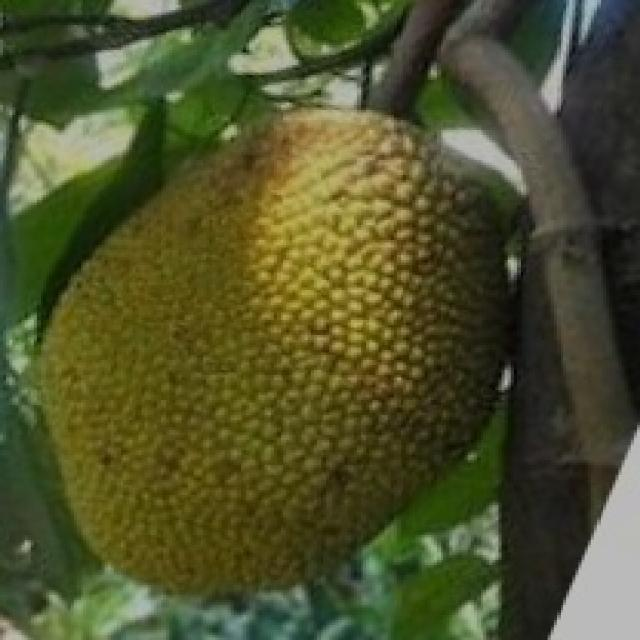Fruit: (176, 42, 584, 422), (0, 285, 382, 640)
